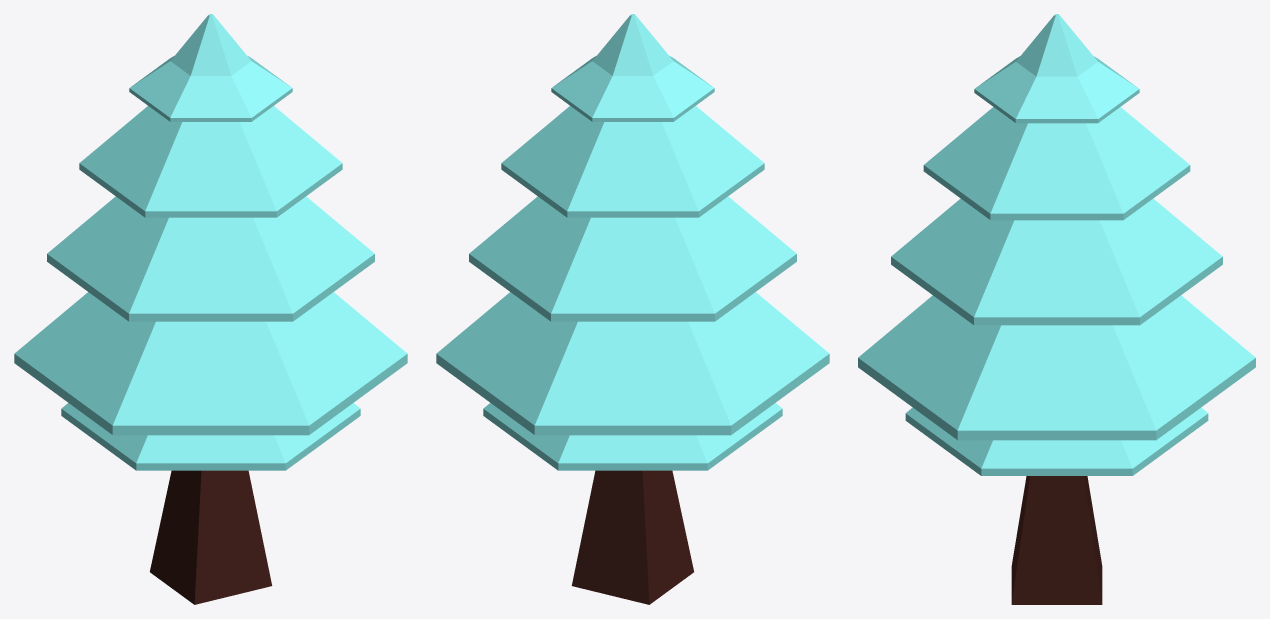
Rendered from pine tree.fbx.
3 views of the same model, side by side, from view 1: azimuth 30°, elevation 25°; view 2: azimuth 150°, elevation 25°; view 3: azimuth 270°, elevation 25° (orthographic).
Visible parts, largest first — view 1: pine tree; view 2: pine tree; view 3: pine tree.
Boxes of the visible parts, <box> form: pine tree: <box>14,14,407,604</box>; pine tree: <box>436,14,829,604</box>; pine tree: <box>858,14,1255,604</box>.
Size of the model in its own units: 229 by 419 by 265.
2 materials, 1 textured.
